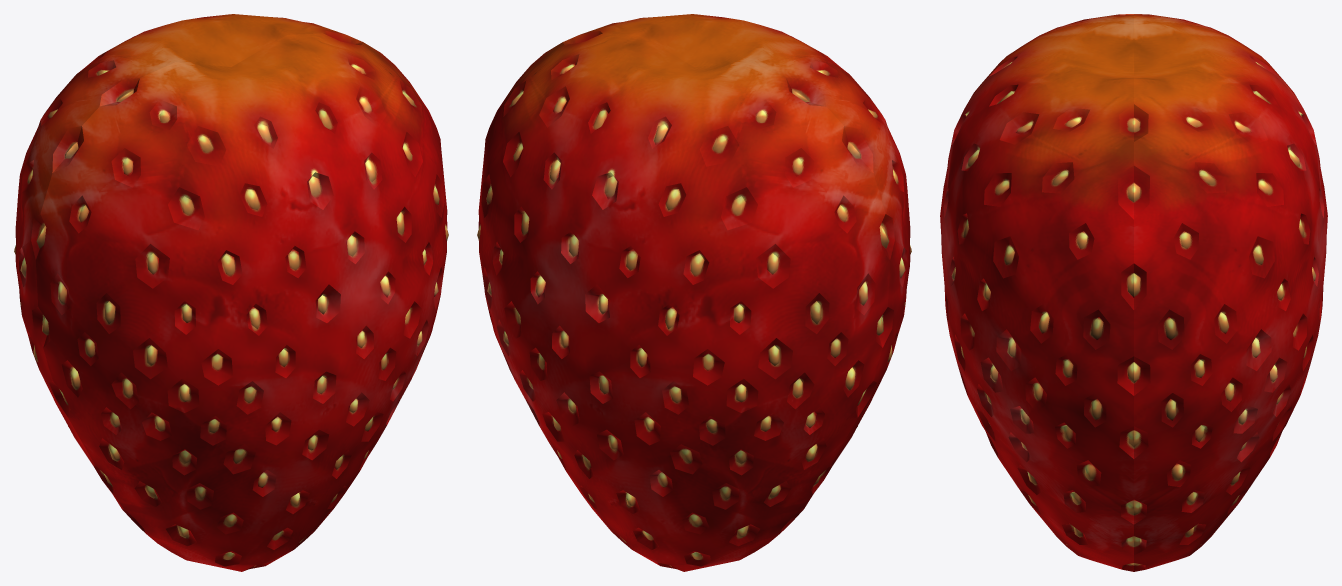
The model's file is Fraise.FBX.
3 renders of one model, left to right at view 1: azimuth 30°, elevation 25°; view 2: azimuth 150°, elevation 25°; view 3: azimuth 270°, elevation 25°, orthographic.
Visible parts, largest first — view 1: Fraise_Positive001; view 2: Fraise_Positive001; view 3: Fraise_Positive001.
Boxes of the visible parts, x1,y1,x2,y2 form: Fraise_Positive001: (14,14,448,571); Fraise_Positive001: (477,14,911,571); Fraise_Positive001: (940,14,1327,571).
Size of the model in its own units: 1.39 by 1.76 by 1.2.
